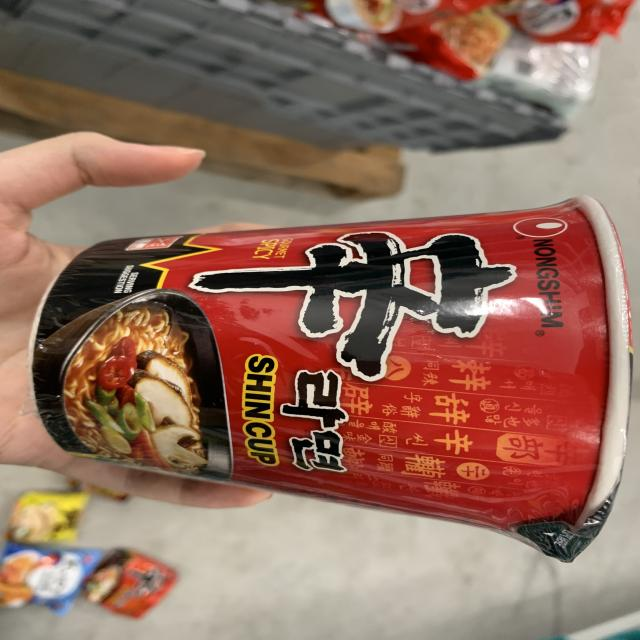object_name: (41, 221, 614, 513)
